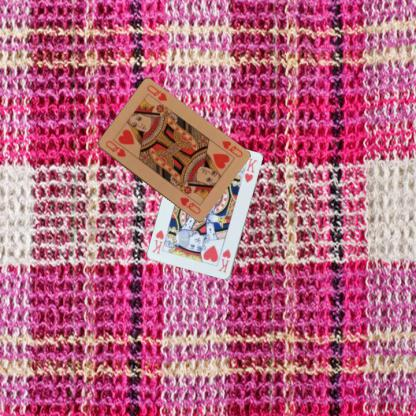Kh: (216, 247, 232, 274)
Qh: (219, 138, 244, 159), (103, 138, 126, 158)
